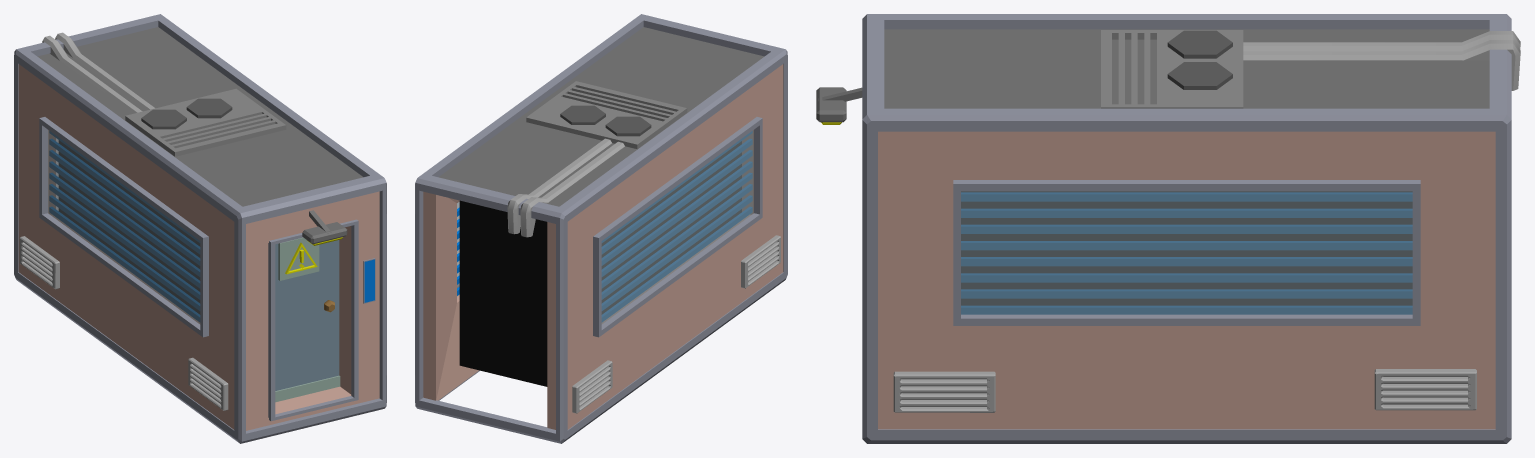
The model's file is long01.fbx.
The picture shows the model from 3 angles, left to right: view 1: azimuth 30°, elevation 25°; view 2: azimuth 150°, elevation 25°; view 3: azimuth 270°, elevation 25°; orthographic projection. The views are drawn at different scales.
Visible parts, largest first — view 1: pPlane56, polySurface30, pPlane39, pPlane34, pPlane36, pCube63, pPlane58, pPlane55, pPlane37, pCube62, pPlane60, pPlane46 (+16 smaller); view 2: pPlane56, polySurface30, pCube62, pPlane39, pPlane36, pPlane33, pPlane58, pPlane55, pPlane49, pPlane50, pPlane60, pPlane46 (+10 smaller); view 3: pPlane33, pPlane57, polySurface30, pPlane39, pCube62, pPlane35, pPlane55, pCube61, pCube55, pCube56, pPlane47, pPlane59 (+11 smaller).
Part boxes in pixels (bbox=[...]): pPlane56: bbox=[18, 64, 234, 429]; polySurface30: bbox=[14, 14, 386, 443]; pPlane39: bbox=[37, 27, 362, 206]; pPlane34: bbox=[246, 191, 379, 430]; pPlane36: bbox=[48, 130, 200, 324]; pCube63: bbox=[275, 240, 339, 390]; pPlane58: bbox=[39, 117, 208, 337]; pPlane55: bbox=[125, 88, 286, 156]; pPlane37: bbox=[268, 219, 358, 421]; pCube62: bbox=[59, 140, 199, 313]; pPlane60: bbox=[19, 236, 59, 289]; pPlane46: bbox=[188, 357, 228, 410]; pPlane56: bbox=[547, 64, 783, 429]; polySurface30: bbox=[415, 14, 787, 443]; pCube62: bbox=[459, 141, 741, 386]; pPlane39: bbox=[439, 27, 764, 206]; pPlane36: bbox=[601, 130, 753, 324]; pPlane33: bbox=[423, 191, 478, 400]; pPlane58: bbox=[593, 117, 762, 337]; pPlane55: bbox=[526, 81, 687, 149]; pPlane49: bbox=[520, 141, 624, 237]; pPlane50: bbox=[507, 138, 611, 234]; pPlane60: bbox=[572, 360, 612, 413]; pPlane46: bbox=[741, 235, 780, 288]; pPlane33: bbox=[878, 131, 1495, 429]; pPlane57: bbox=[961, 191, 1412, 314]; polySurface30: bbox=[862, 14, 1511, 443]; pPlane39: bbox=[884, 29, 1489, 108]; pCube62: bbox=[961, 191, 1412, 305]; pPlane35: bbox=[953, 180, 1420, 325]; pPlane55: bbox=[1101, 30, 1243, 108]; pCube61: bbox=[961, 192, 1412, 201]; pCube55: bbox=[961, 289, 1412, 298]; pCube56: bbox=[961, 273, 1412, 282]; pPlane47: bbox=[893, 371, 995, 412]; pPlane59: bbox=[1374, 369, 1476, 410].
Bounding box in the file's own units: 3.21 × 4.51 × 8.63.
